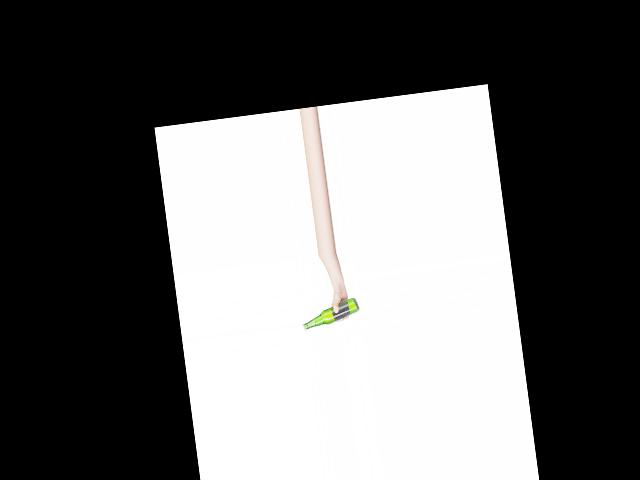beer: (300, 297, 361, 330)
